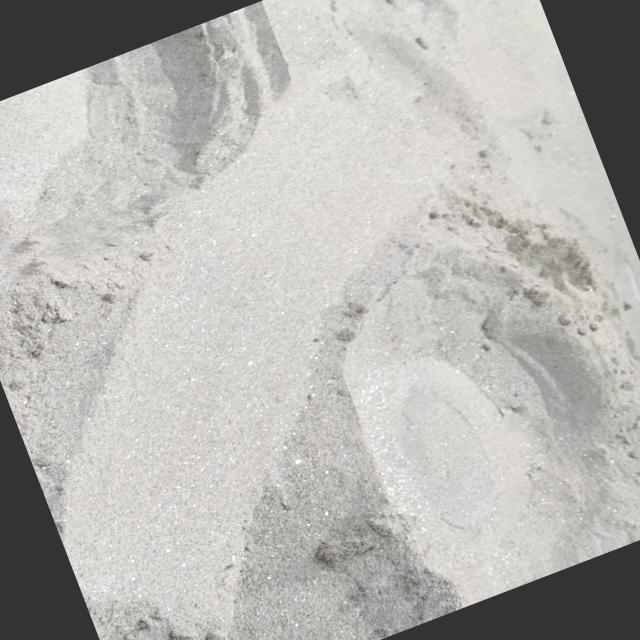C20: (346, 256, 620, 590), (0, 0, 291, 238)
